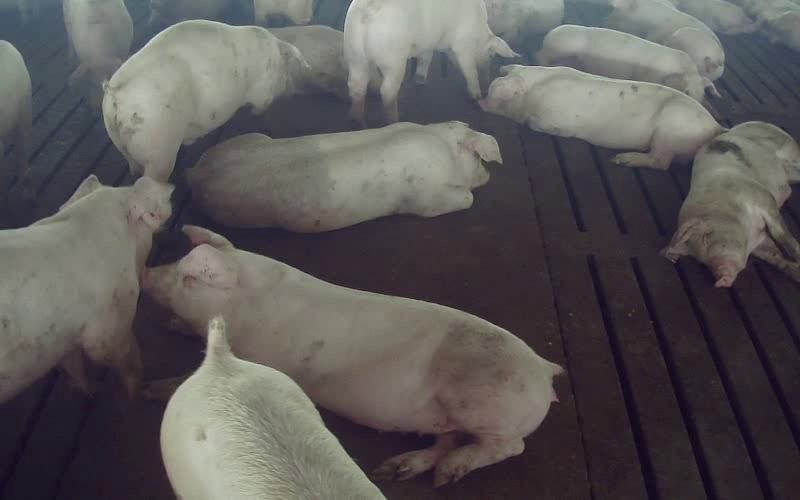pig: (144, 226, 560, 485), (161, 316, 384, 499), (0, 176, 172, 402), (188, 123, 501, 232), (103, 20, 308, 181), (480, 66, 721, 168), (661, 121, 799, 286), (344, 0, 516, 123), (536, 25, 715, 101), (608, 0, 724, 80)
